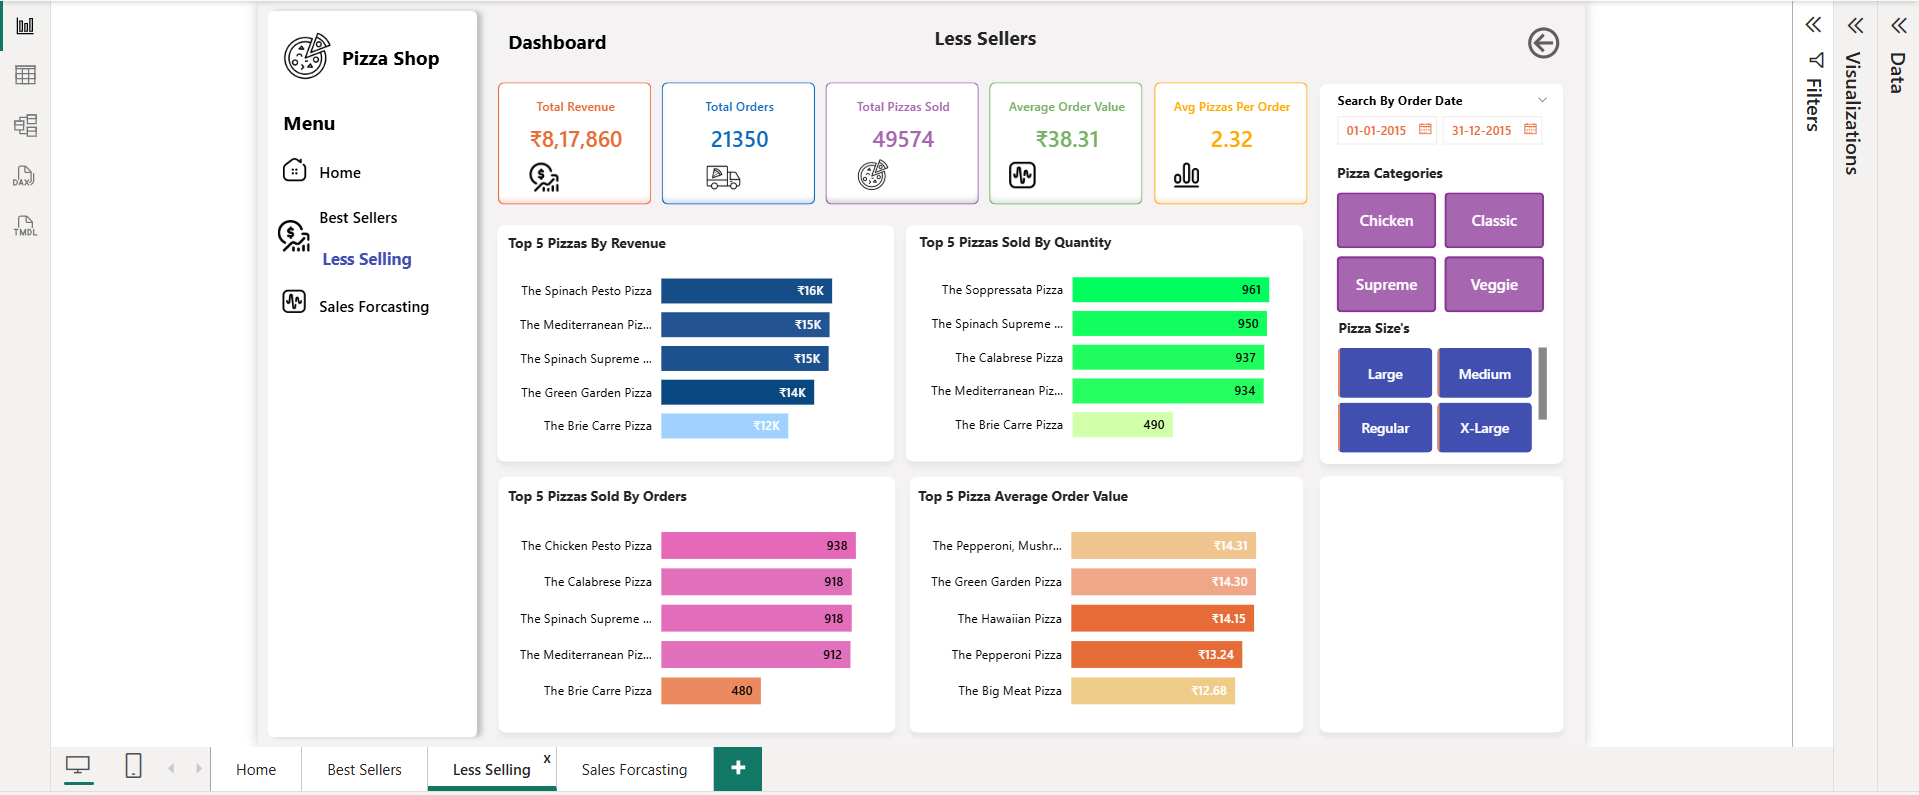

This screenshot's page, from the dashboard's own definition file:
{"tool":"powerbi","page":{"name":"Less Selling","canvas":[1280,720],"ordinal":2},"visuals":[{"type":"shape","box":[0,0,221,720],"z":0},{"type":"textbox","box":[76,37,122,37],"z":1000},{"type":"image","box":[19,23,57,60],"z":2000},{"type":"textbox","box":[236.2,21.2,150,37.5],"z":3000},{"type":"cardVisual","fields":{"Data":["pizza_sales.Total Revenue"]},"box":[227.4,73.6,158.2,128.4],"z":4000,"group":"g1"},{"type":"shape","box":[223,450,401,265],"z":4000},{"type":"cardVisual","fields":{"Data":["pizza_sales.Total Orders"]},"box":[385.6,73.6,158.2,128.4],"z":5000,"group":"g1"},{"type":"shape","box":[620,450,398,265],"z":5000},{"type":"cardVisual","fields":{"Data":["pizza_sales.Avg Order Value"]},"box":[702,73.6,158.2,128.4],"z":6000,"group":"g1"},{"type":"group","id":"g1","title":"Group 1","box":[227.4,73.6,791.1,128.4],"z":6000},{"type":"cardVisual","fields":{"Data":["pizza_sales.Total Pizzas Sold"]},"box":[543.6,73.6,158.2,128],"z":7000,"group":"g1"},{"type":"shape","box":[1016.4,70.9,252.7,384.5],"z":7000},{"type":"cardVisual","fields":{"Data":["pizza_sales.Avg Pizza Per Order"]},"box":[860.2,73.6,158.2,128.4],"z":8000,"group":"g1"},{"type":"slicer","fields":{"Values":["pizza_sales.order_date"]},"box":[1029.2,83.3,228.3,100.8],"z":8000},{"type":"textbox","box":[19,100,150,38],"z":9000},{"type":"image","box":[19.2,146,32.4,33.6],"z":10000},{"type":"pageNavigator","box":[59.1,143.6,146,162.9],"z":11000},{"type":"shape","box":[1016,450,253,265],"z":12000},{"type":"advancedSlicerVisual","title":"Pizza Categories","fields":{"Values":["pizza_sales.pizza_category"]},"box":[1035.8,156.7,211.7,150],"z":13000},{"type":"advancedSlicerVisual","title":"Pizza Size''s","fields":{"Values":["pizza_sales.pizza_size"]},"box":[1037.5,305.8,211.7,134.2],"z":14000},{"type":"image","box":[14.5,190.6,39.8,72.4],"z":15000},{"type":"image","box":[10.9,273.9,48.3,32.6],"z":16000},{"type":"actionButton","box":[1221.2,20,47.5,40],"z":17000},{"type":"shape","box":[222,207,401,246],"z":18000},{"type":"shape","box":[617,207,401,246],"z":19000},{"type":"barChart","title":"Top 5 Pizzas By Revenue","fields":{"Category":["pizza_sales.pizza_name"],"Y":["pizza_sales.Total Revenue"]},"box":[236,224,372,217],"z":20000},{"type":"barChart","title":"Top 5 Pizzas Sold By Quantity ","fields":{"Category":["pizza_sales.pizza_name"],"Y":["pizza_sales.Total Pizzas Sold"]},"box":[633,223,372,217],"z":21000},{"type":"barChart","title":"Top 5 Pizzas Sold By Orders","fields":{"Category":["pizza_sales.pizza_name"],"Y":["pizza_sales.Total Orders"]},"box":[236,468,372,231],"z":22000},{"type":"barChart","title":"Top 5 Pizza Average Order Value","fields":{"Category":["pizza_sales.pizza_name"],"Y":["pizza_sales.Average Order Value"]},"box":[632,468,372,231],"z":23000},{"type":"textbox","box":[605,18,195,38],"z":24000}]}

Visuals, with their boxes on the page's 1280x720 design canvas (x1, y1, x2, y2). These are canvas units, not pixel positions in the 1919x795 screenshot, which may show the page scaled, cropped or inside an application window:
shape: l=0, t=0, r=221, b=720
textbox: l=76, t=37, r=198, b=74
image: l=19, t=23, r=76, b=83
textbox: l=236, t=21, r=386, b=59
cardVisual - pizza_sales.Total Revenue: l=227, t=74, r=386, b=202
shape: l=223, t=450, r=624, b=715
cardVisual - pizza_sales.Total Orders: l=386, t=74, r=544, b=202
shape: l=620, t=450, r=1018, b=715
cardVisual - pizza_sales.Avg Order Value: l=702, t=74, r=860, b=202
"Group 1" group: l=227, t=74, r=1018, b=202
cardVisual - pizza_sales.Total Pizzas Sold: l=544, t=74, r=702, b=202
shape: l=1016, t=71, r=1269, b=455
cardVisual - pizza_sales.Avg Pizza Per Order: l=860, t=74, r=1018, b=202
slicer - pizza_sales.order_date: l=1029, t=83, r=1258, b=184
textbox: l=19, t=100, r=169, b=138
image: l=19, t=146, r=52, b=180
pageNavigator: l=59, t=144, r=205, b=306
shape: l=1016, t=450, r=1269, b=715
"Pizza Categories" advancedSlicerVisual: l=1036, t=157, r=1248, b=307
"Pizza Size''s" advancedSlicerVisual: l=1038, t=306, r=1249, b=440
image: l=14, t=191, r=54, b=263
image: l=11, t=274, r=59, b=306
actionButton: l=1221, t=20, r=1269, b=60
shape: l=222, t=207, r=623, b=453
shape: l=617, t=207, r=1018, b=453
"Top 5 Pizzas By Revenue" barChart: l=236, t=224, r=608, b=441
"Top 5 Pizzas Sold By Quantity " barChart: l=633, t=223, r=1005, b=440
"Top 5 Pizzas Sold By Orders" barChart: l=236, t=468, r=608, b=699
"Top 5 Pizza Average Order Value" barChart: l=632, t=468, r=1004, b=699
textbox: l=605, t=18, r=800, b=56
